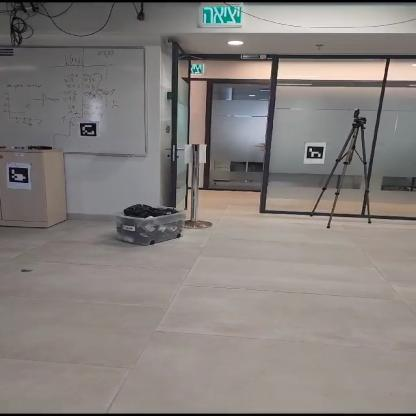open: (163, 71, 286, 220)
